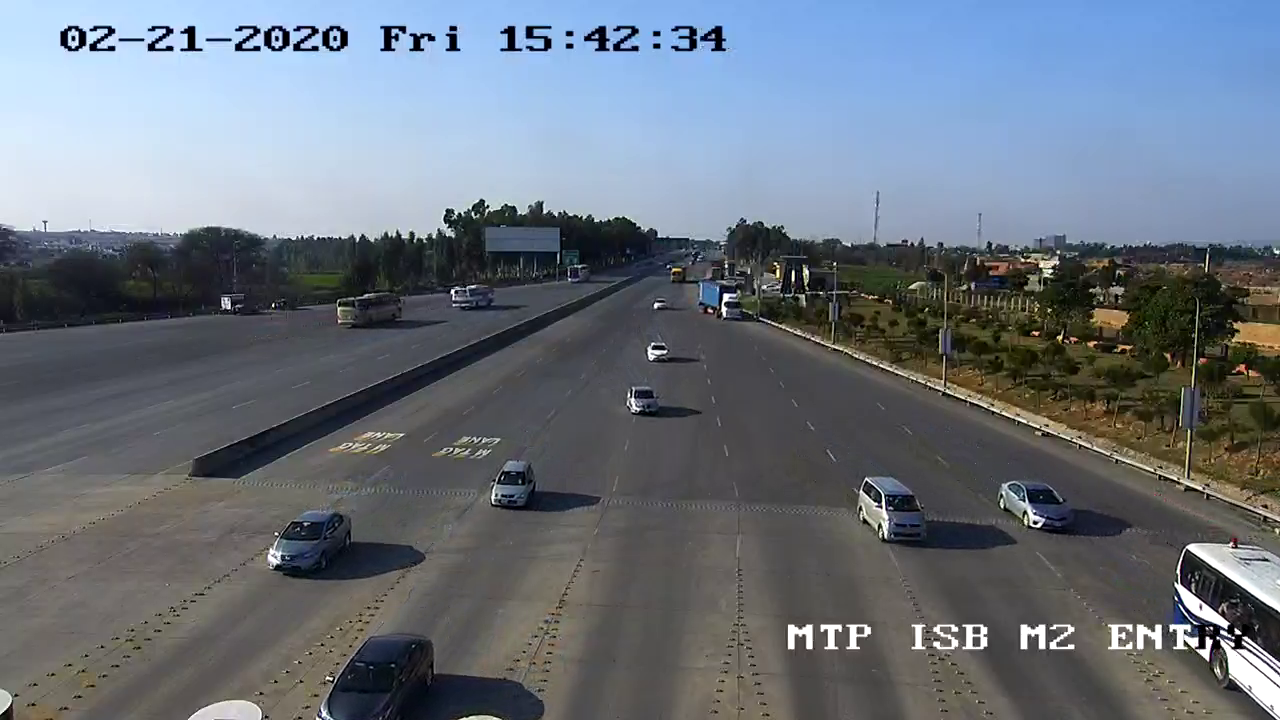f1: (257, 498, 357, 584), (848, 468, 937, 546), (994, 471, 1079, 543), (480, 455, 543, 512), (622, 375, 666, 421)
